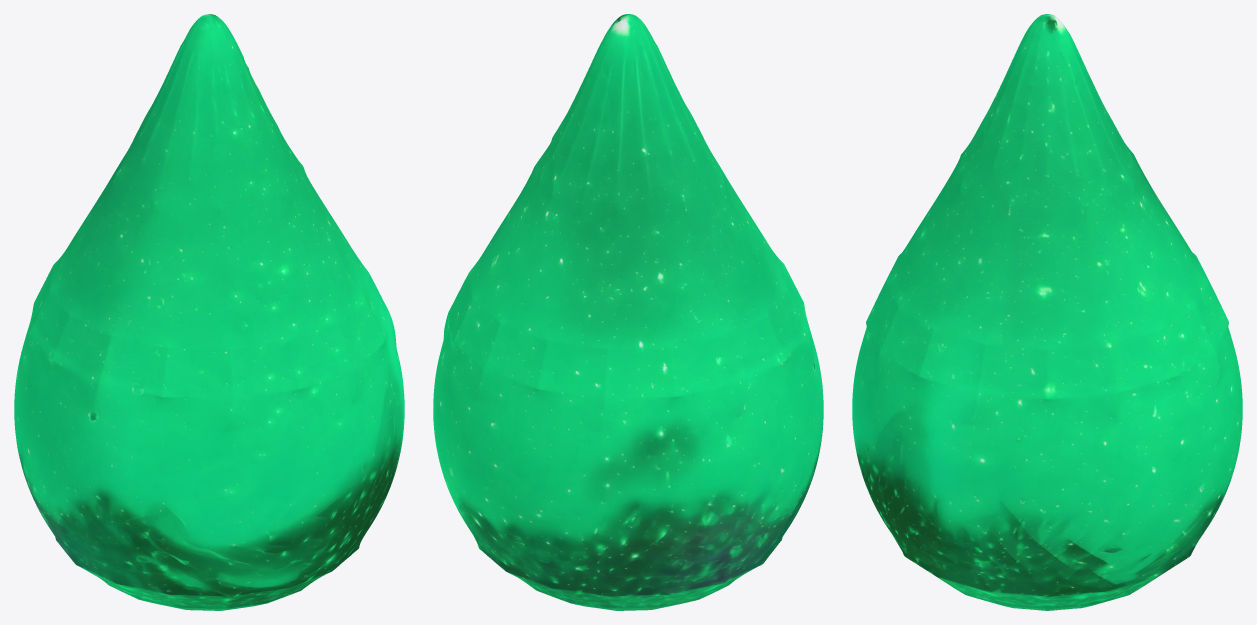
Rendered from emerald_droplets.glb.
3 renders of one model, left to right at view 1: azimuth 30°, elevation 25°; view 2: azimuth 150°, elevation 25°; view 3: azimuth 270°, elevation 25°, orthographic.
Bounding box in the file's own units: 1.17 × 1.9 × 1.17.
Materials: 1 (1 with a texture image).
